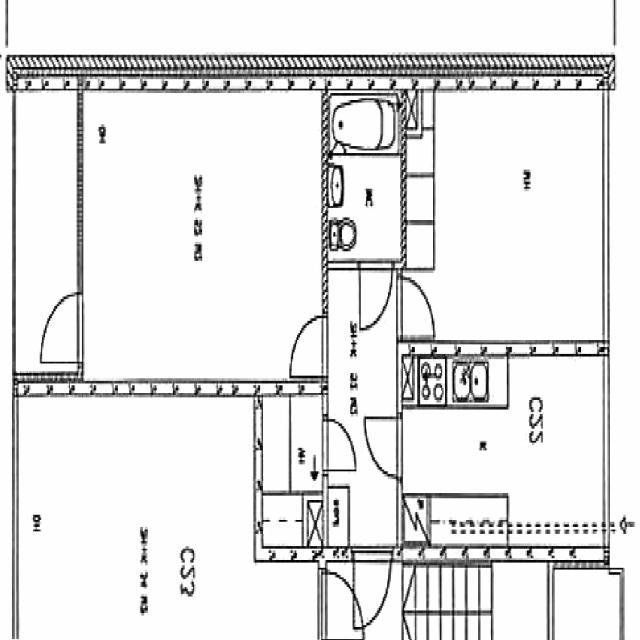door: (38, 293, 82, 363), (353, 547, 390, 630), (289, 316, 328, 376), (396, 278, 435, 338), (364, 418, 402, 478), (359, 262, 392, 327), (322, 420, 356, 470)
